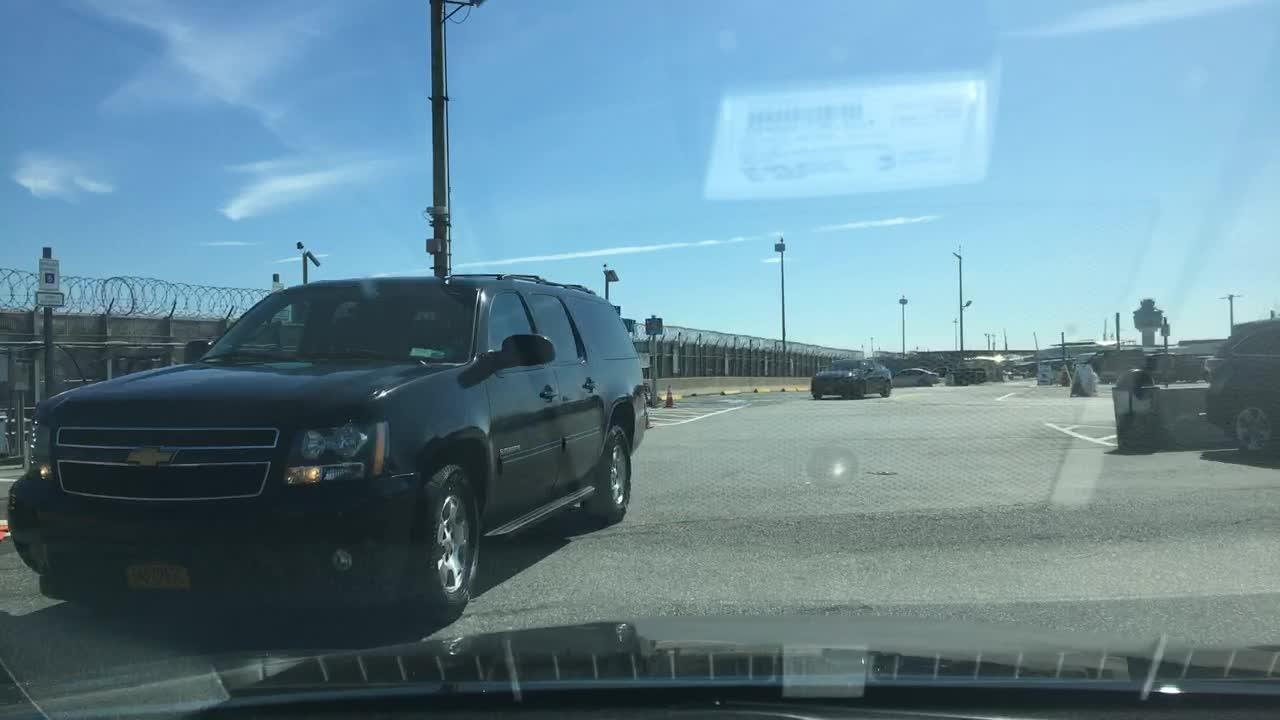chevrolet: (109, 429, 196, 481)
